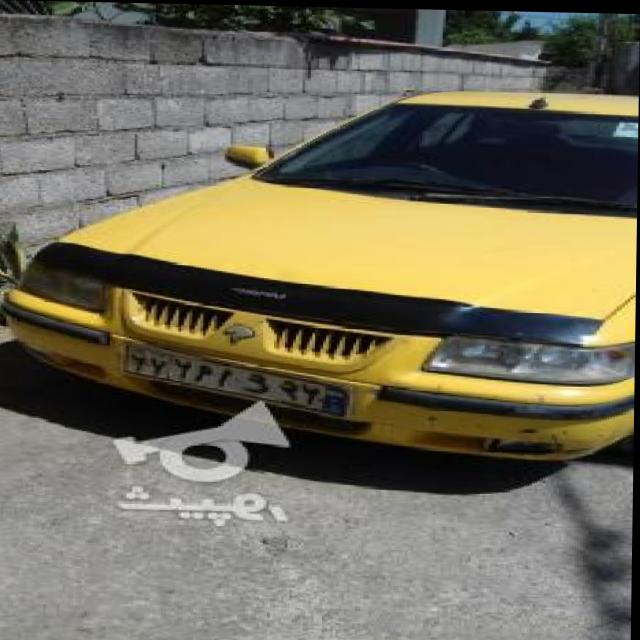licence: (127, 338, 355, 414)
